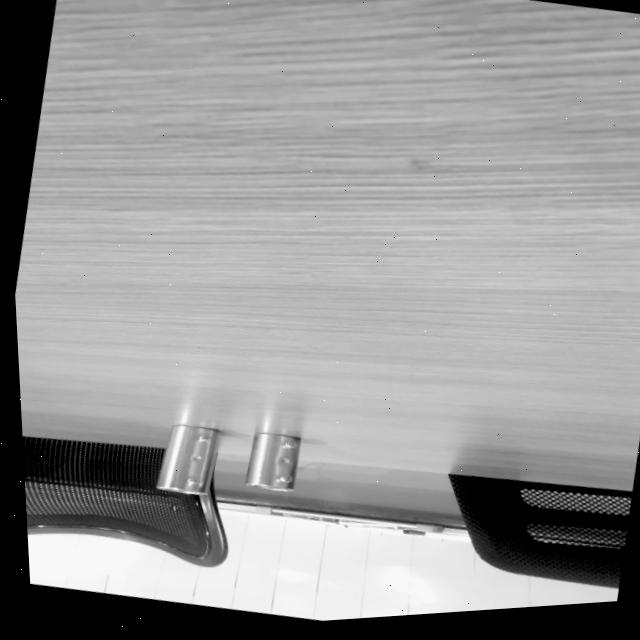Co_Lon: (156, 420, 219, 497)
Co_Nho: (244, 429, 301, 492)
